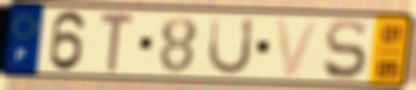6: (47, 9, 87, 74)
8: (156, 13, 200, 76)
S: (321, 17, 370, 82)
T: (98, 10, 137, 75)
U: (205, 14, 257, 77)
V: (273, 16, 323, 79)
